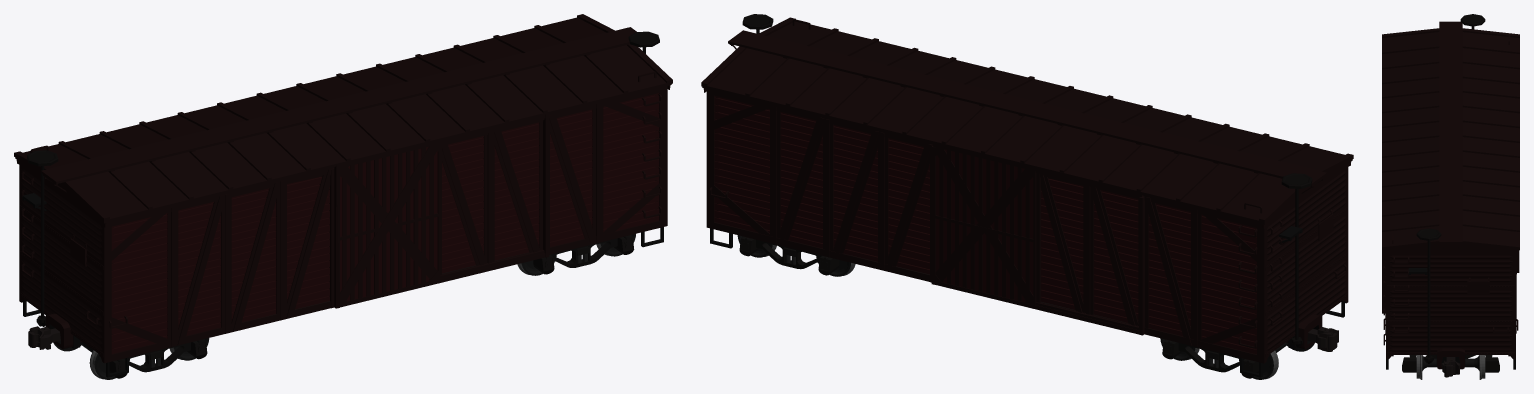
Rendered from boxcar_x26.obj.
The picture shows the model from 3 angles, left to right: view 1: azimuth 30°, elevation 25°; view 2: azimuth 150°, elevation 25°; view 3: azimuth 270°, elevation 25°; orthographic projection. The views are drawn at different scales.
Parts seen in each view (by area): view 1: BOXCAR_Cube.026, DOOR_LEFT_Cube.006, BOGEY_FRONT_Cube.007, BOGEY_BACK_Cube.024; view 2: BOXCAR_Cube.026, DOOR_RIGHT_Cube.002, BOGEY_FRONT_Cube.007, BOGEY_BACK_Cube.024; view 3: BOXCAR_Cube.026, BOGEY_BACK_Cube.024, BACK_COUPLER_Cube.010.
Boxes of the visible parts, x1,y1,x2,y2 form: BOXCAR_Cube.026: [14, 14, 672, 377]; DOOR_LEFT_Cube.006: [340, 144, 439, 303]; BOGEY_FRONT_Cube.007: [53, 338, 209, 379]; BOGEY_BACK_Cube.024: [517, 234, 635, 275]; BOXCAR_Cube.026: [701, 14, 1353, 377]; DOOR_RIGHT_Cube.002: [933, 146, 1036, 304]; BOGEY_FRONT_Cube.007: [1160, 338, 1314, 379]; BOGEY_BACK_Cube.024: [737, 235, 855, 276]; BOXCAR_Cube.026: [1382, 14, 1519, 369]; BOGEY_BACK_Cube.024: [1402, 355, 1499, 379]; BACK_COUPLER_Cube.010: [1442, 357, 1459, 377].
Size of the model in its own units: 12.86 by 4.05 by 3.21.
